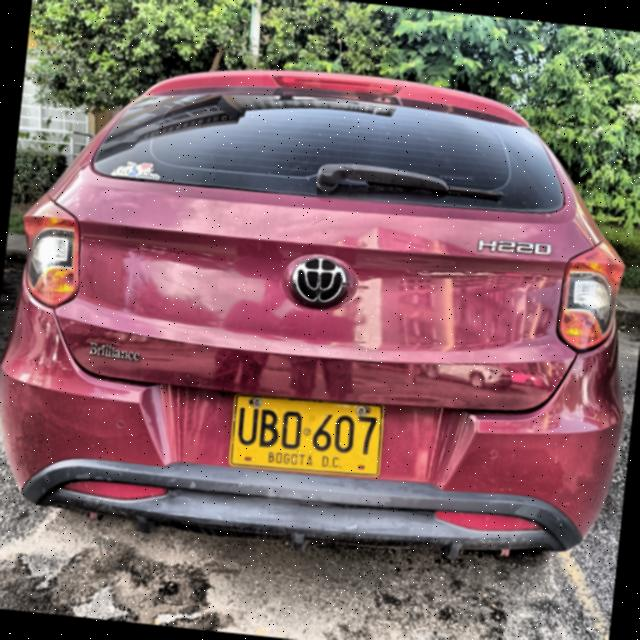0: (331, 415, 356, 455)
6: (308, 412, 335, 453)
7: (355, 415, 379, 457)
B: (256, 408, 279, 449)
O: (279, 409, 304, 450)
U: (235, 405, 260, 447)
